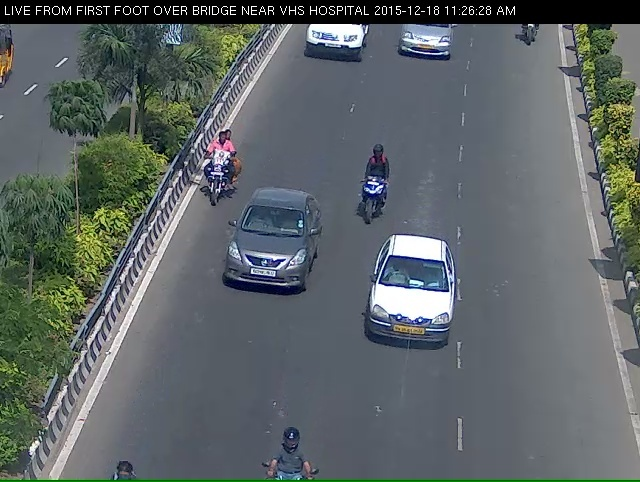Car: (209, 212, 319, 337), (359, 253, 460, 376), (293, 19, 374, 76), (391, 21, 459, 72)
Person: (346, 154, 389, 241), (192, 136, 239, 214)
